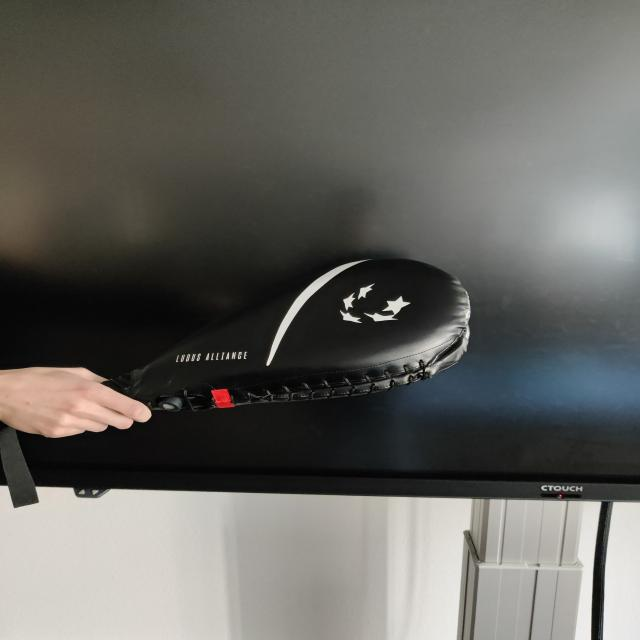paddle: (101, 252, 478, 415)
